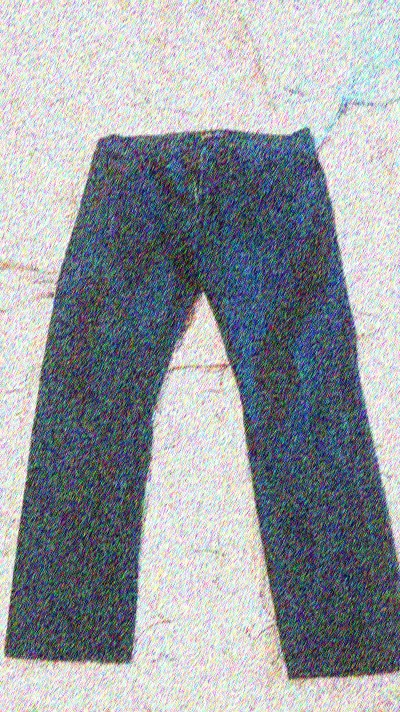Pants: (14, 114, 390, 678)
